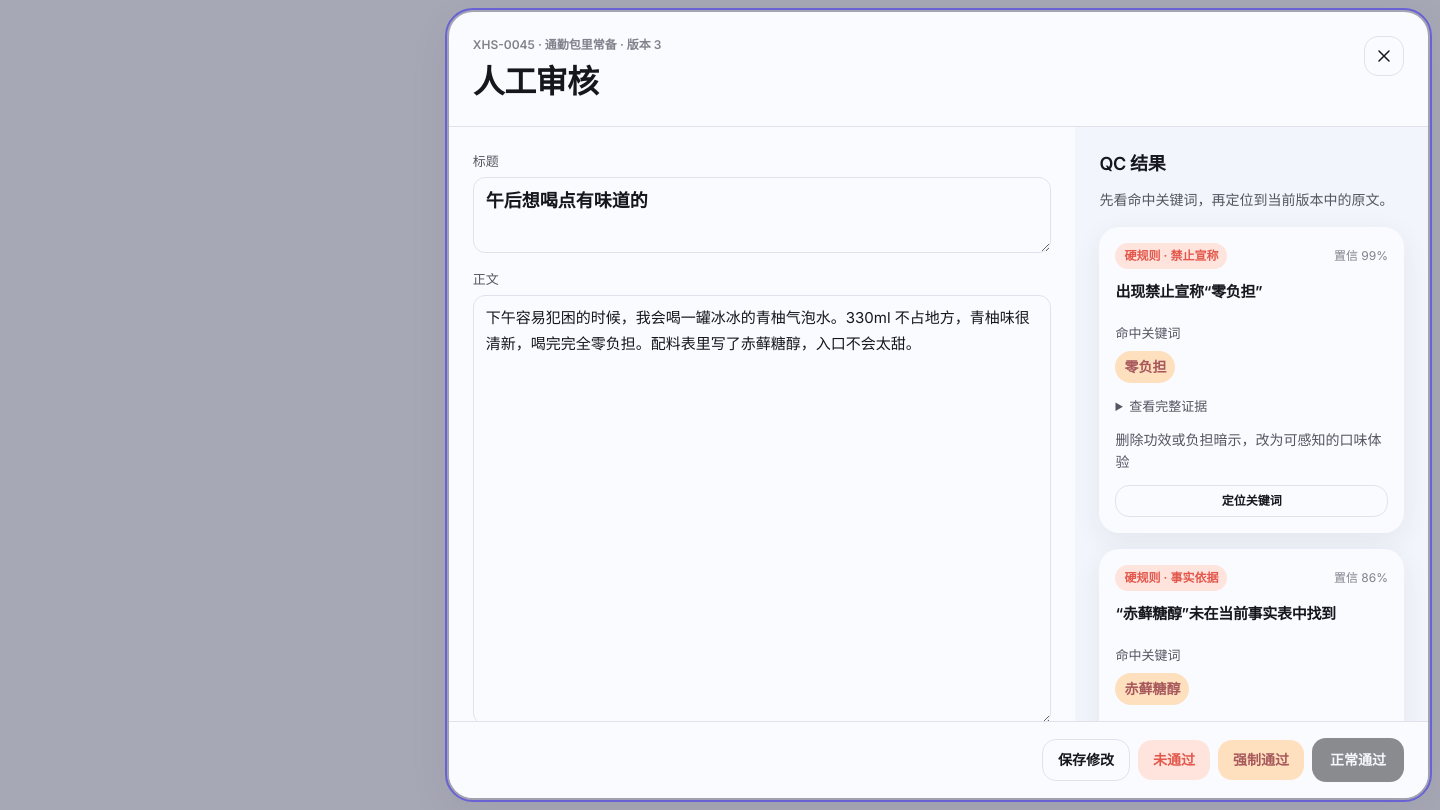
Test: merges a partial save response and refreshes fresh findings without closing the panel
Replace the text in the text box labelled "正文" with "人工编辑正文": (762, 510) 473,295 -> 1052,725
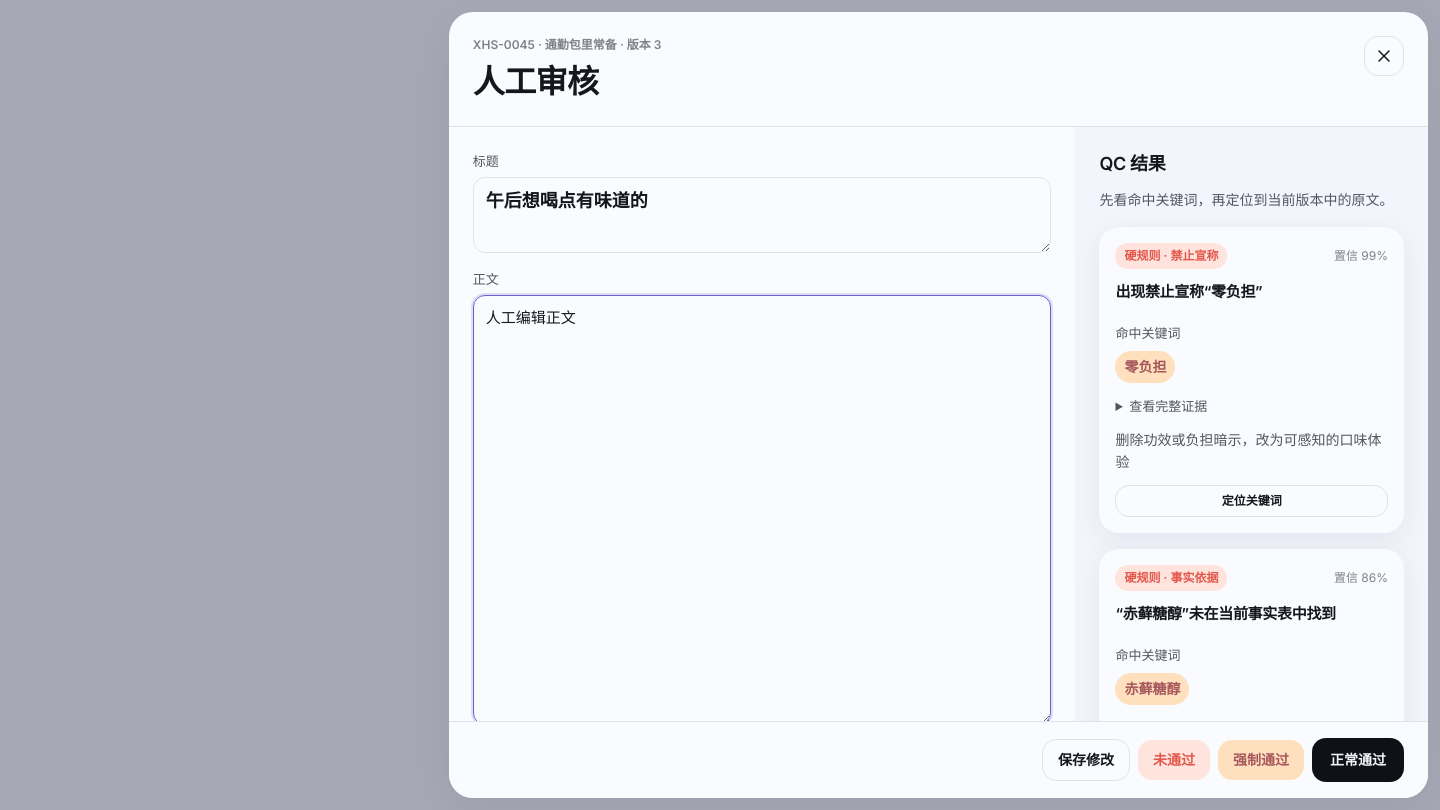
Click the button "保存修改": (1086, 760) 1042,739 -> 1130,781
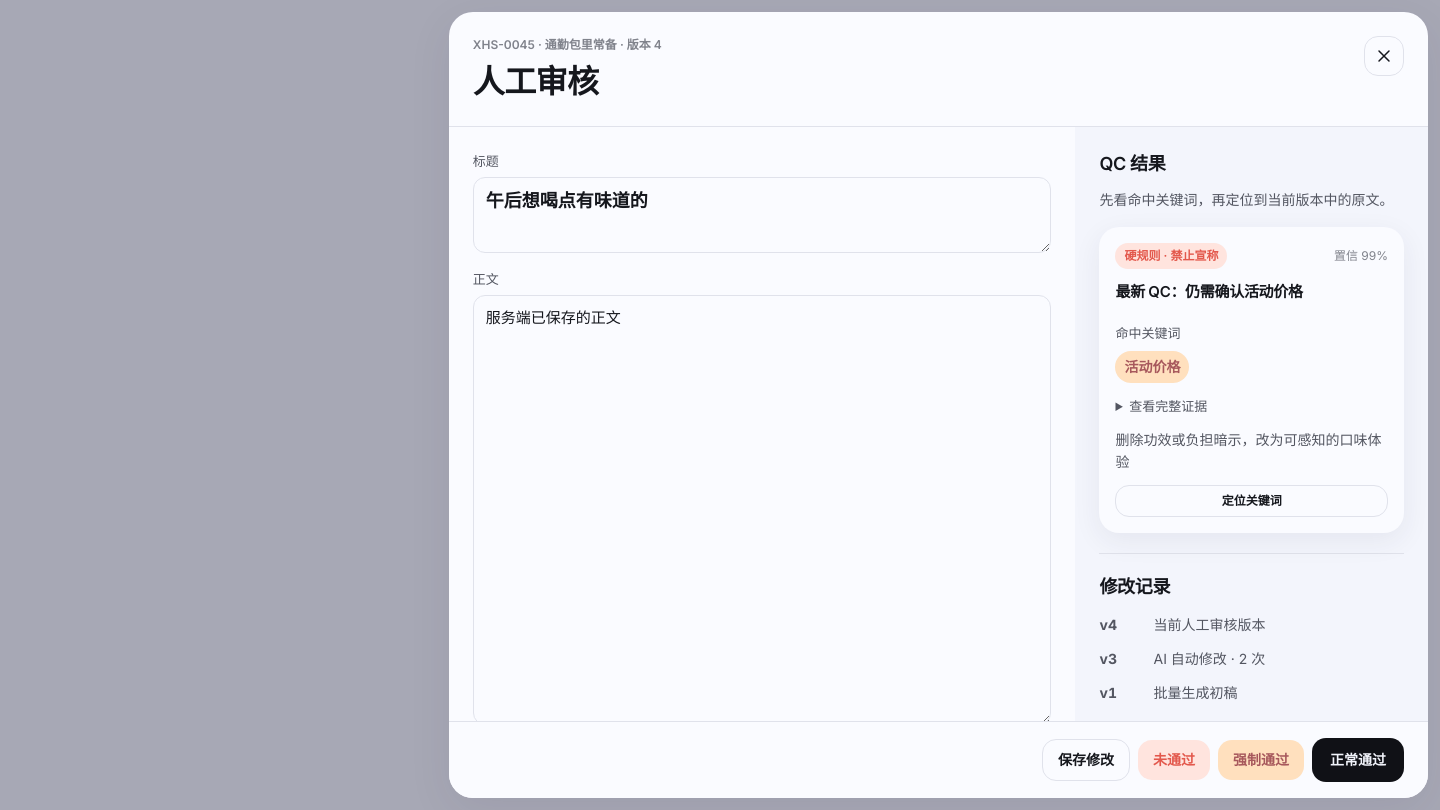
expect the text "XHS-0045 · 通勤包里常备 · 版本 4" is shown: met, box 473,36 -> 662,54
expect the heading "最新 QC：仍需确认活动价格" is shown: met, box 1116,282 -> 1303,301
expect the text box labelled "正文" holds "服务端已保存的正文": met, box 473,295 -> 1052,721
